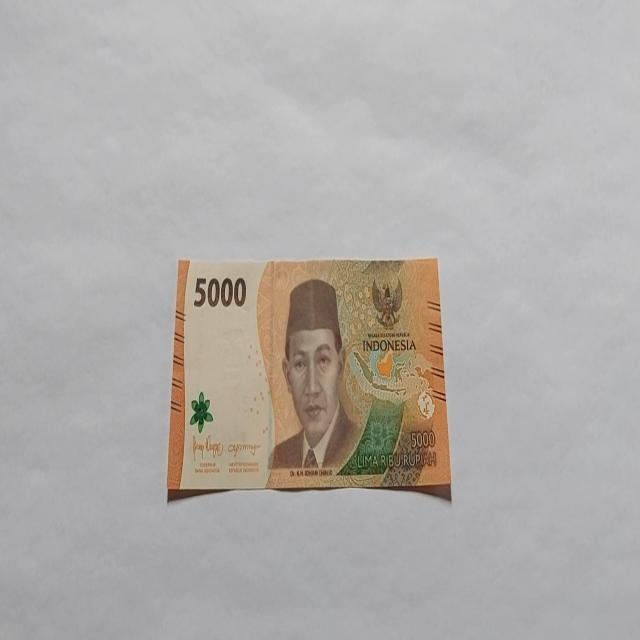lima ribu rupiah: (166, 255, 452, 502), (266, 277, 362, 474)
